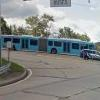Bus: (4, 30, 80, 56)
